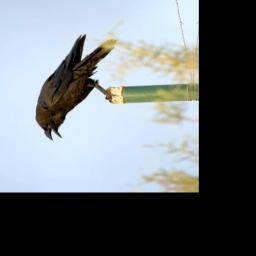Crow: (27, 31, 122, 142)
